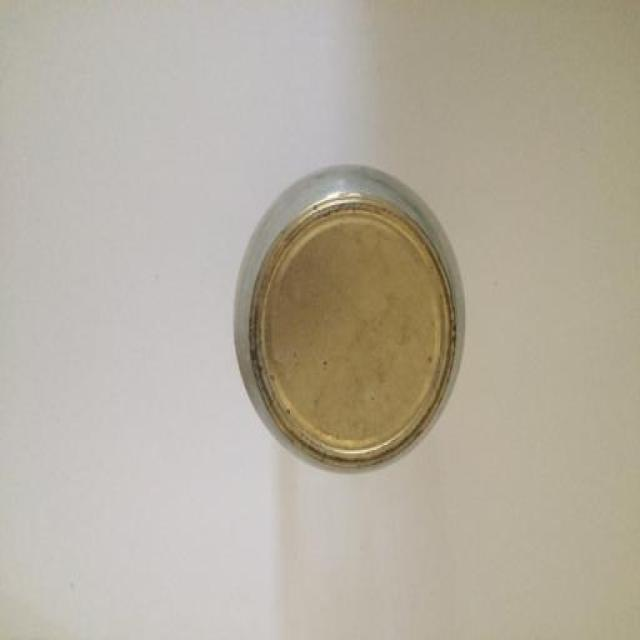glass: (232, 167, 465, 472)
